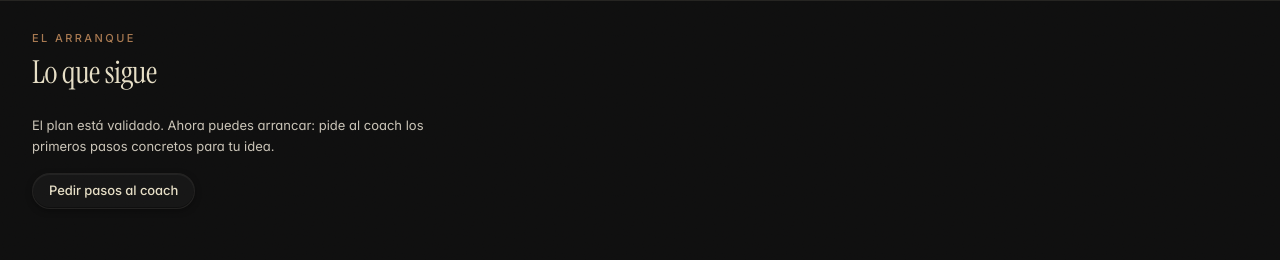
Test: ArranqueSection — the steps the coach and the person agreed on › says when the coach proposed nothing this time
Check: the text "El plan está validado" is shown, box [32,117,424,154]
Click the button "Pedir pasos al coach" at (114, 191), box [32,173,195,209]
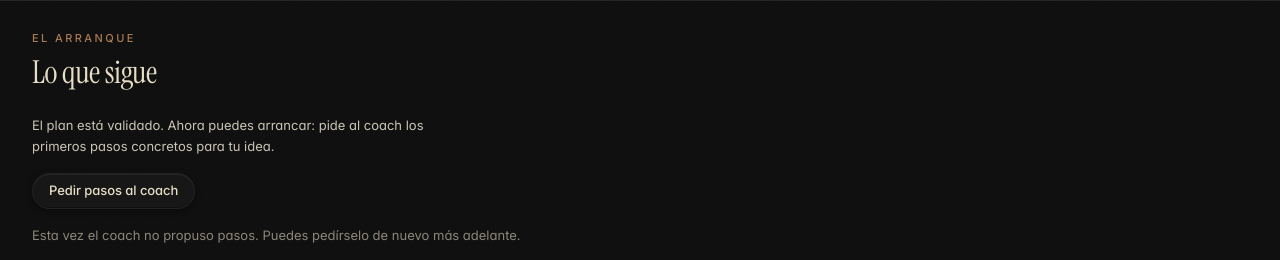
Check: the text "Esta vez el coach no propuso pasos. Puedes pedírselo de nuevo más adelante." is shown, box [32,227,521,243]
